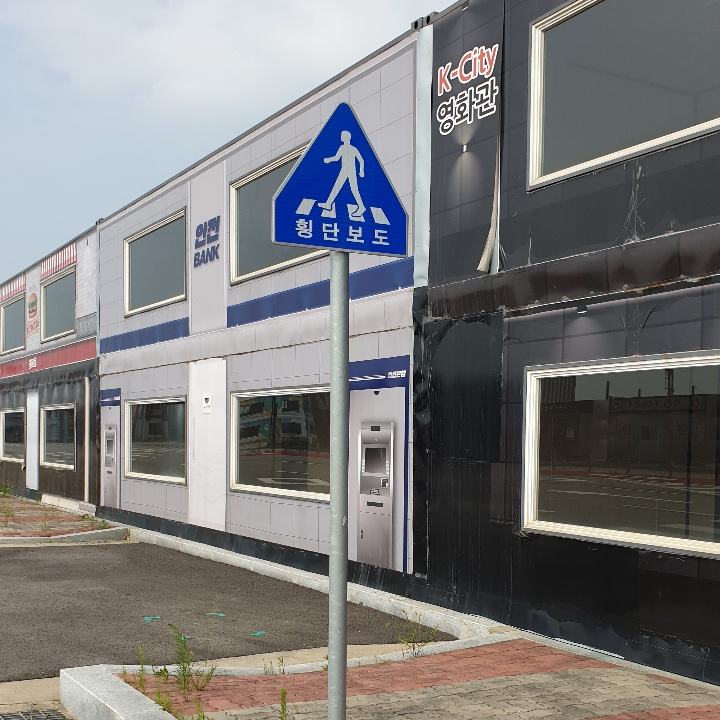cross: (314, 122, 375, 220)
